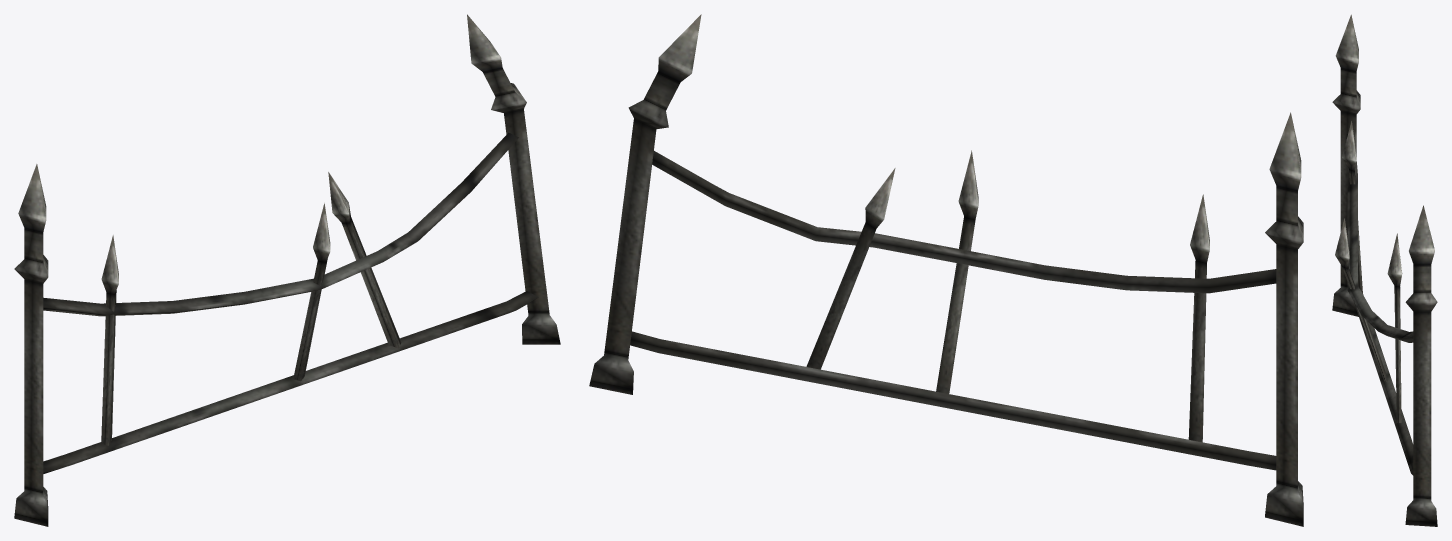
3 renders of one model, left to right at view 1: azimuth 30°, elevation 25°; view 2: azimuth 150°, elevation 25°; view 3: azimuth 270°, elevation 25°, orthographic. The views are drawn at different scales.
Parts seen in each view (by area): view 1: object77; view 2: object77; view 3: object77.
Part boxes in pixels (x1,y1,x2,y2): object77: (14, 14, 560, 526); object77: (589, 14, 1303, 526); object77: (1332, 14, 1437, 526).
Bounding box in the file's own units: 331 × 195 × 62.38.
